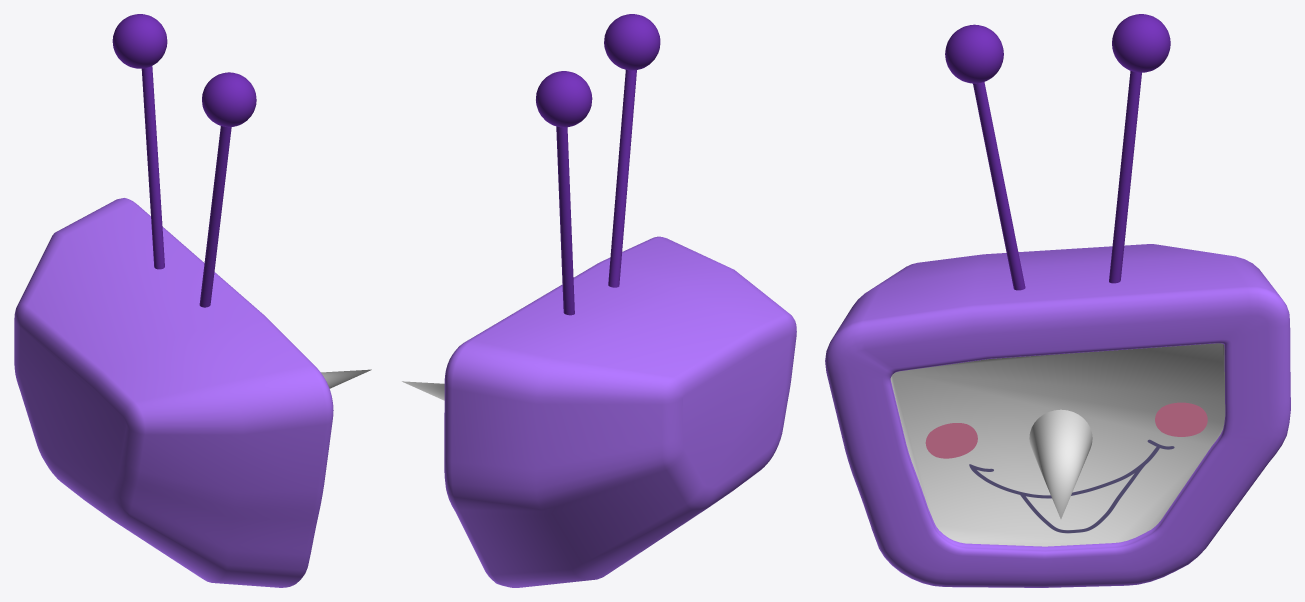
Rendered from tenna(again).glb.
3 views of the same model, side by side, from view 1: azimuth 30°, elevation 25°; view 2: azimuth 150°, elevation 25°; view 3: azimuth 270°, elevation 25° (orthographic). The views are drawn at different scales.
Parts seen in each view (by area): view 1: head_base, antenna ball2, antenna ball, antenna2, antenna, nose.001; view 2: head_base, antenna, antenna ball, antenna ball2, antenna2; view 3: head_base, nose.001, antenna ball, antenna ball2, antenna2, antenna, mouth, cheek, cheek.001.
Part boxes in pixels (x1,y1,x2,y2): head_base: (14, 198, 333, 587); antenna ball2: (112, 14, 167, 68); antenna ball: (202, 72, 256, 127); antenna2: (141, 66, 164, 269); antenna: (199, 126, 231, 307); nose.001: (321, 369, 371, 388); head_base: (444, 236, 796, 587); antenna: (608, 69, 636, 287); antenna ball: (604, 14, 660, 70); antenna ball2: (536, 71, 592, 127); antenna2: (556, 126, 574, 315); head_base: (825, 244, 1290, 587); nose.001: (1029, 409, 1092, 518); antenna ball: (945, 24, 1003, 83); antenna ball2: (1112, 14, 1170, 72); antenna2: (1109, 71, 1141, 283); antenna: (973, 82, 1025, 290); mouth: (969, 439, 1174, 533); cheek: (1155, 402, 1207, 436); cheek.001: (925, 423, 977, 458).
Size of the model in its own units: 2.11 by 3.29 by 2.53.
Materials: 6 (1 with a texture image).
